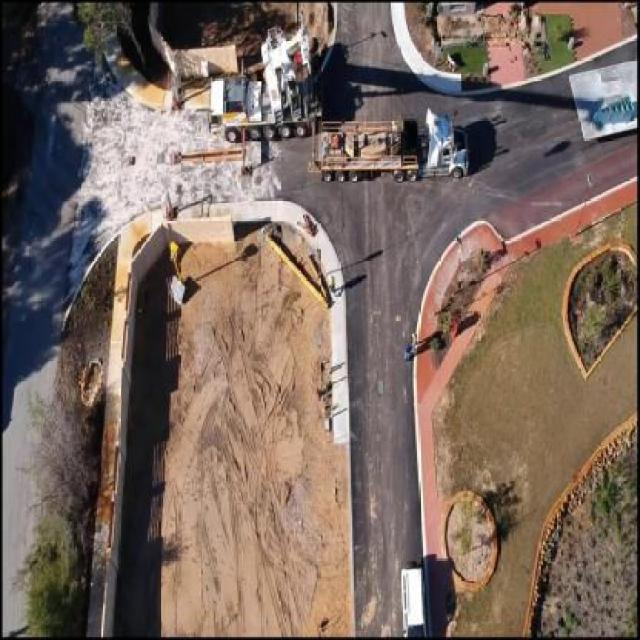Mobile Crane: (209, 36, 323, 141)
